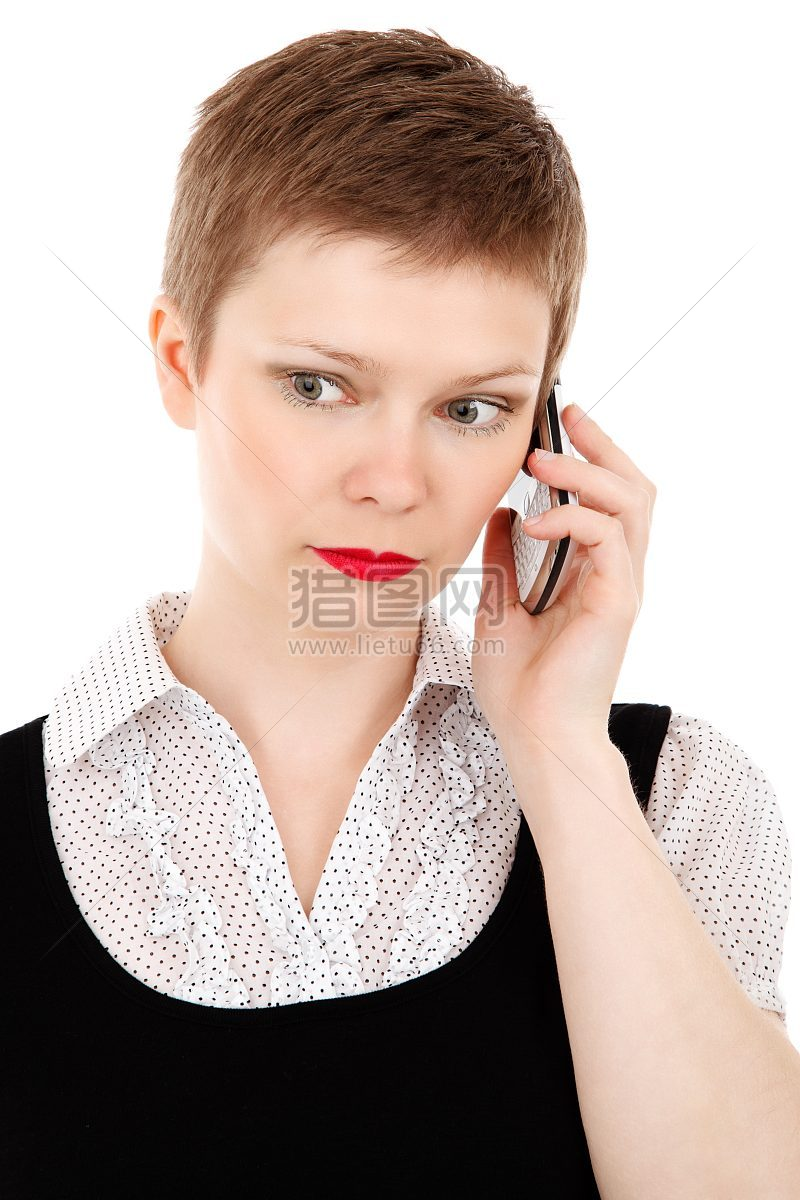phone: (470, 362, 663, 656)
talk: (219, 305, 675, 758)
